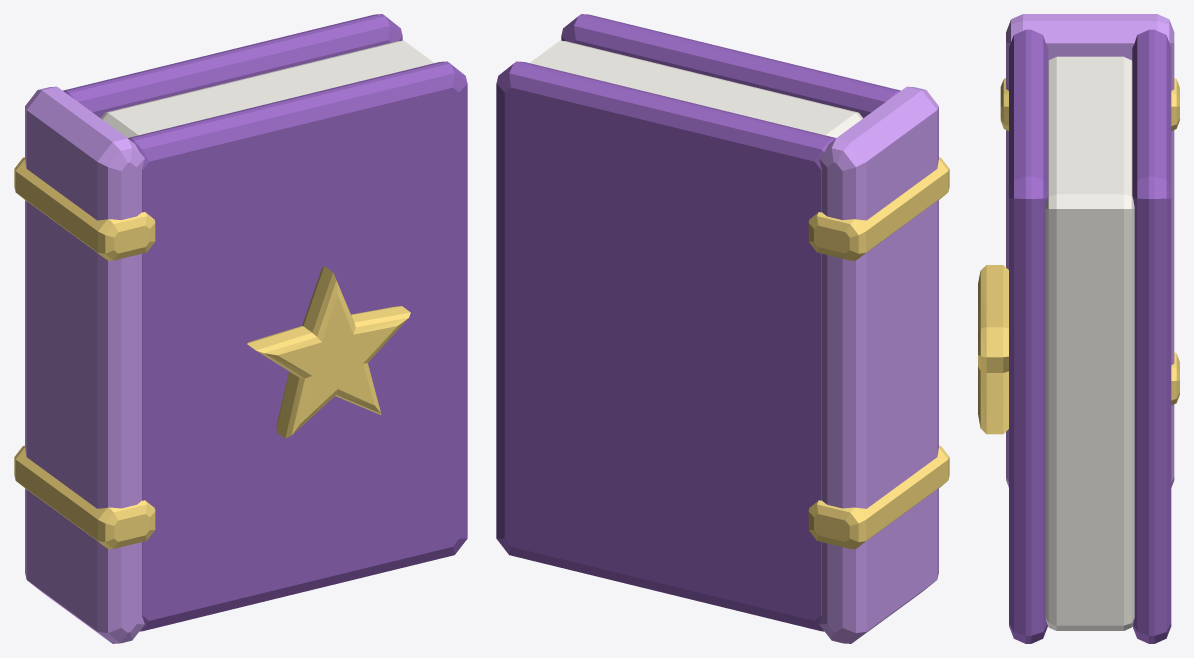
The model's file is game-ui-icon-library-book-1130def8__19006.glb.
3 renders of one model, left to right at view 1: azimuth 30°, elevation 25°; view 2: azimuth 150°, elevation 25°; view 3: azimuth 270°, elevation 25°, orthographic. The views are drawn at different scales.
Parts seen in each view (by area): view 1: book; view 2: book; view 3: book.
Boxes of the visible parts, bbox=[...] form: book: bbox=[14, 14, 467, 643]; book: bbox=[496, 14, 949, 643]; book: bbox=[978, 14, 1179, 643].
Bounding box in the file's own units: 0.735 × 0.94 × 0.36.
